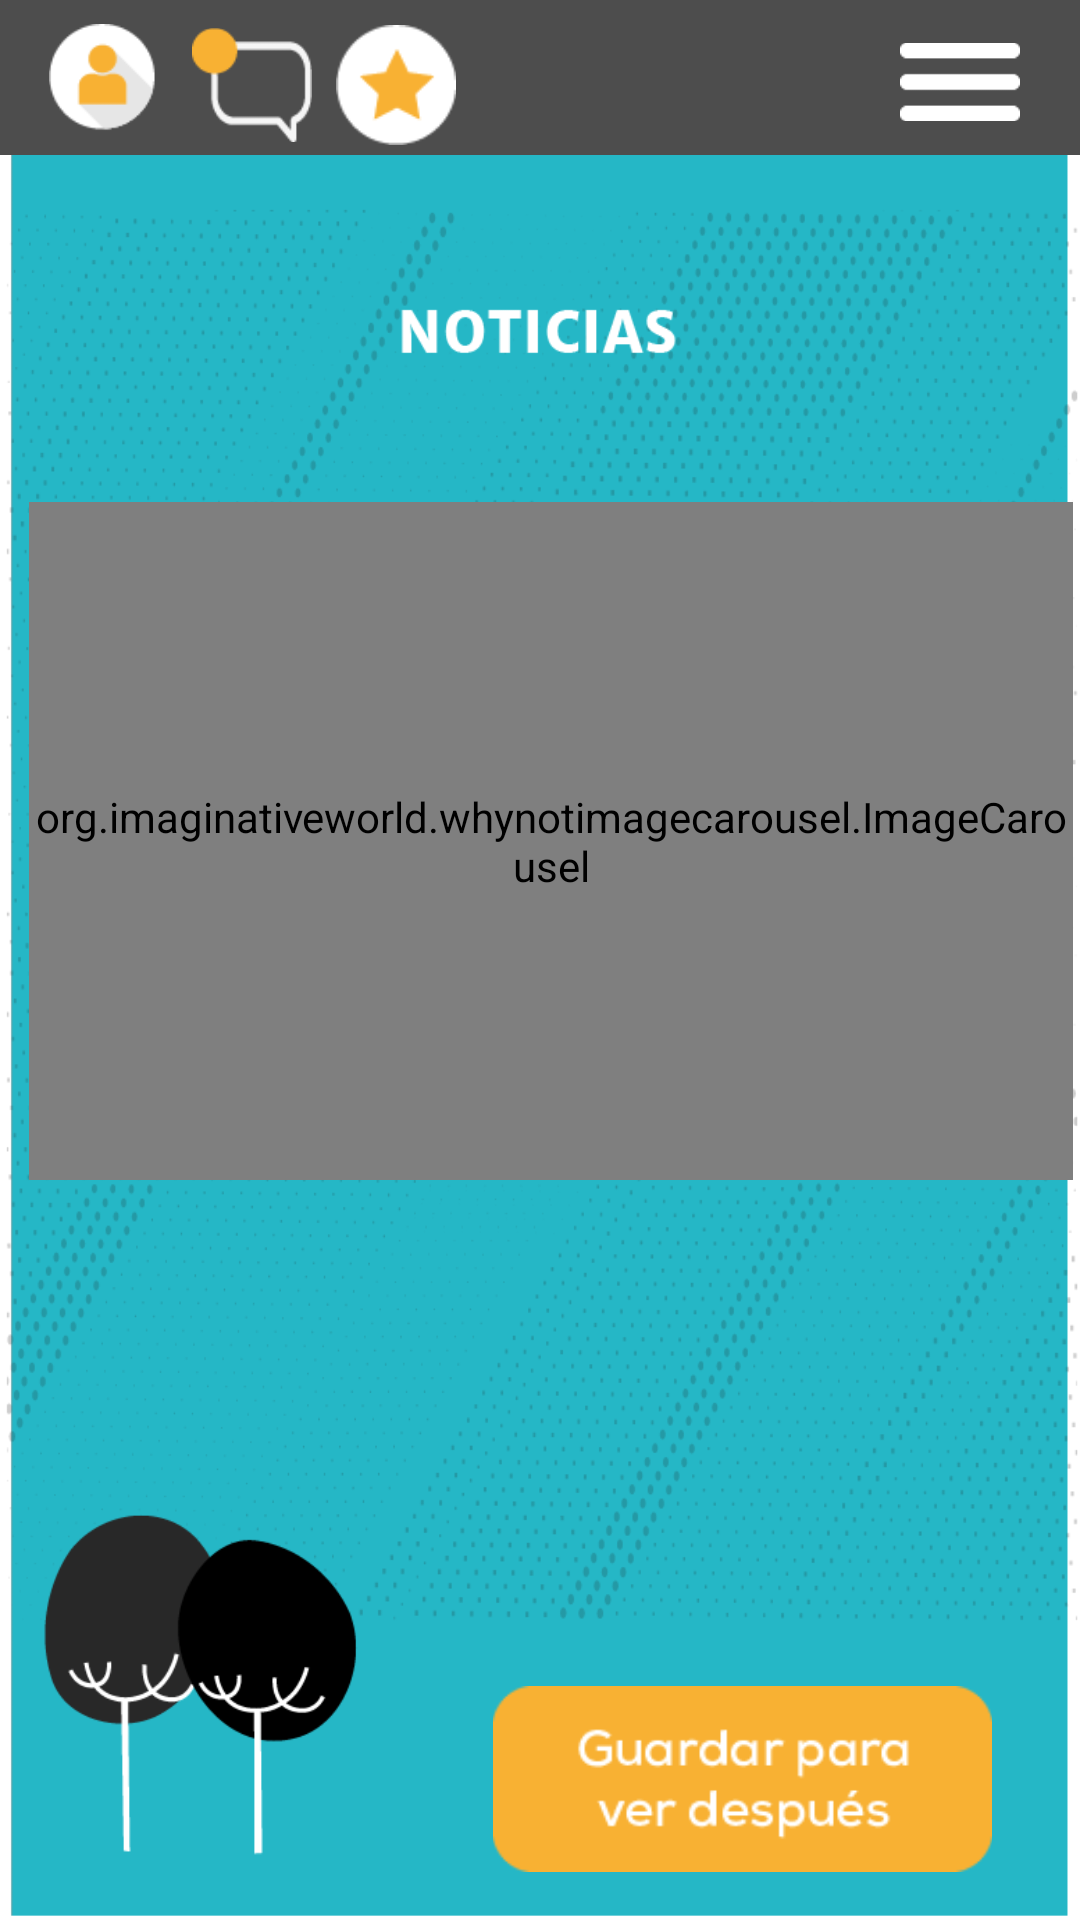

Where icons sit on this 1080 × 1920 app screen, as box=[x1, y1, x2, y2]:
estrella: box=[336, 25, 456, 145]
login: box=[49, 24, 155, 130]
mensaje: box=[192, 28, 312, 142]
tres lineas: box=[900, 43, 1020, 121]
